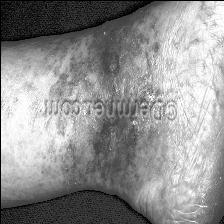Non-Cancerous Skin Condition: (93, 119, 141, 180), (132, 16, 160, 58), (66, 141, 76, 167)
